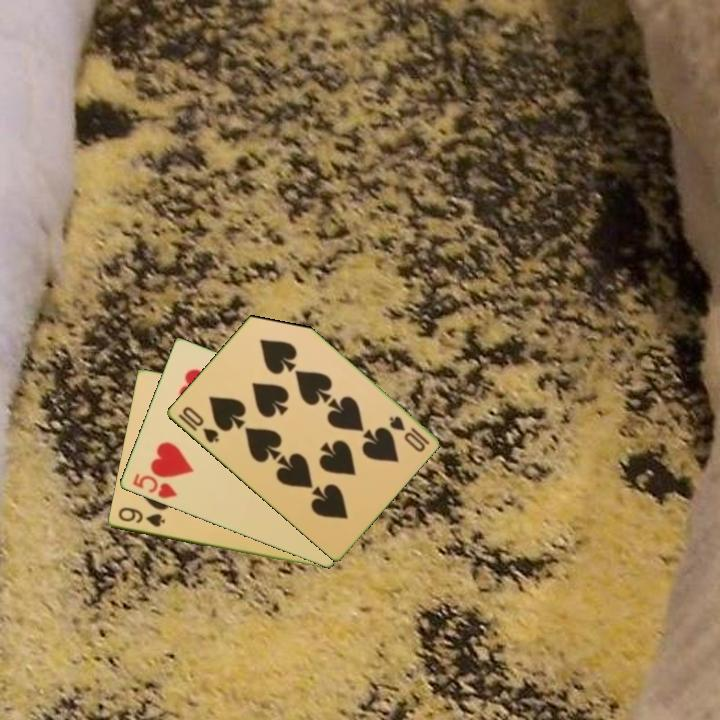10s: (385, 412, 432, 455), (178, 403, 222, 446)
5h: (129, 470, 179, 502)
9s: (114, 504, 168, 530)
